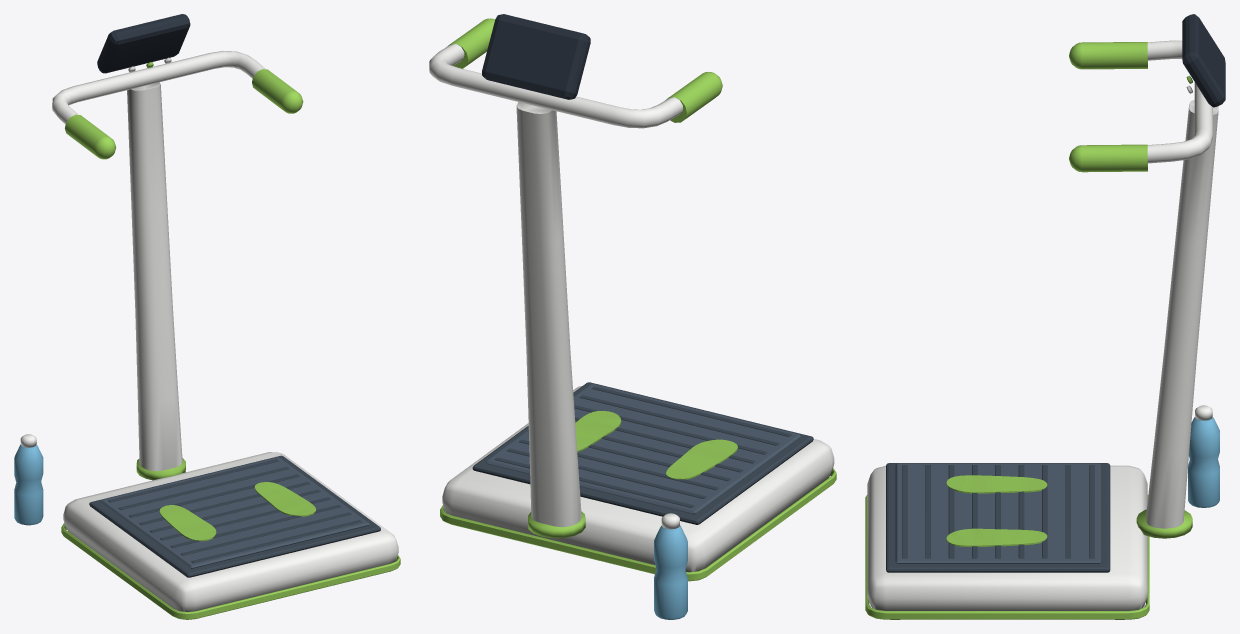
Rendered from vibePlate.glb.
The picture shows the model from 3 angles, left to right: view 1: azimuth 30°, elevation 25°; view 2: azimuth 150°, elevation 25°; view 3: azimuth 270°, elevation 25°; orthographic projection. The views are drawn at different scales.
Parts seen in each view (by area): view 1: body, deck; view 2: body, deck; view 3: body, deck.
Boxes of the visible parts, left/top/right/bottom form: body: left=14, top=14, right=400, bottom=619; deck: left=89, top=455, right=380, bottom=577; body: left=429, top=14, right=836, bottom=619; deck: left=472, top=382, right=813, bottom=524; body: left=865, top=14, right=1225, bottom=619; deck: left=886, top=463, right=1110, bottom=572.
Bounding box in the file's own units: 0.67 × 1.25 × 0.7703.
